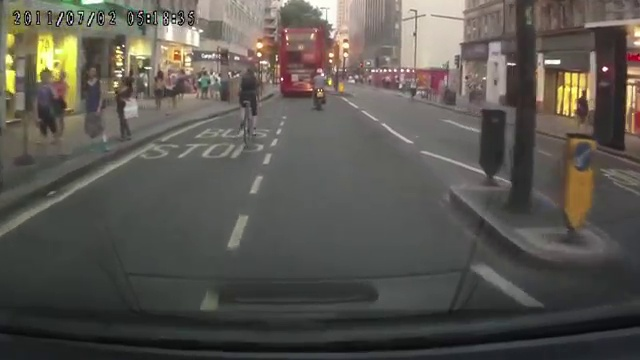cyclist_back: (240, 64, 259, 152), (312, 68, 329, 112)
